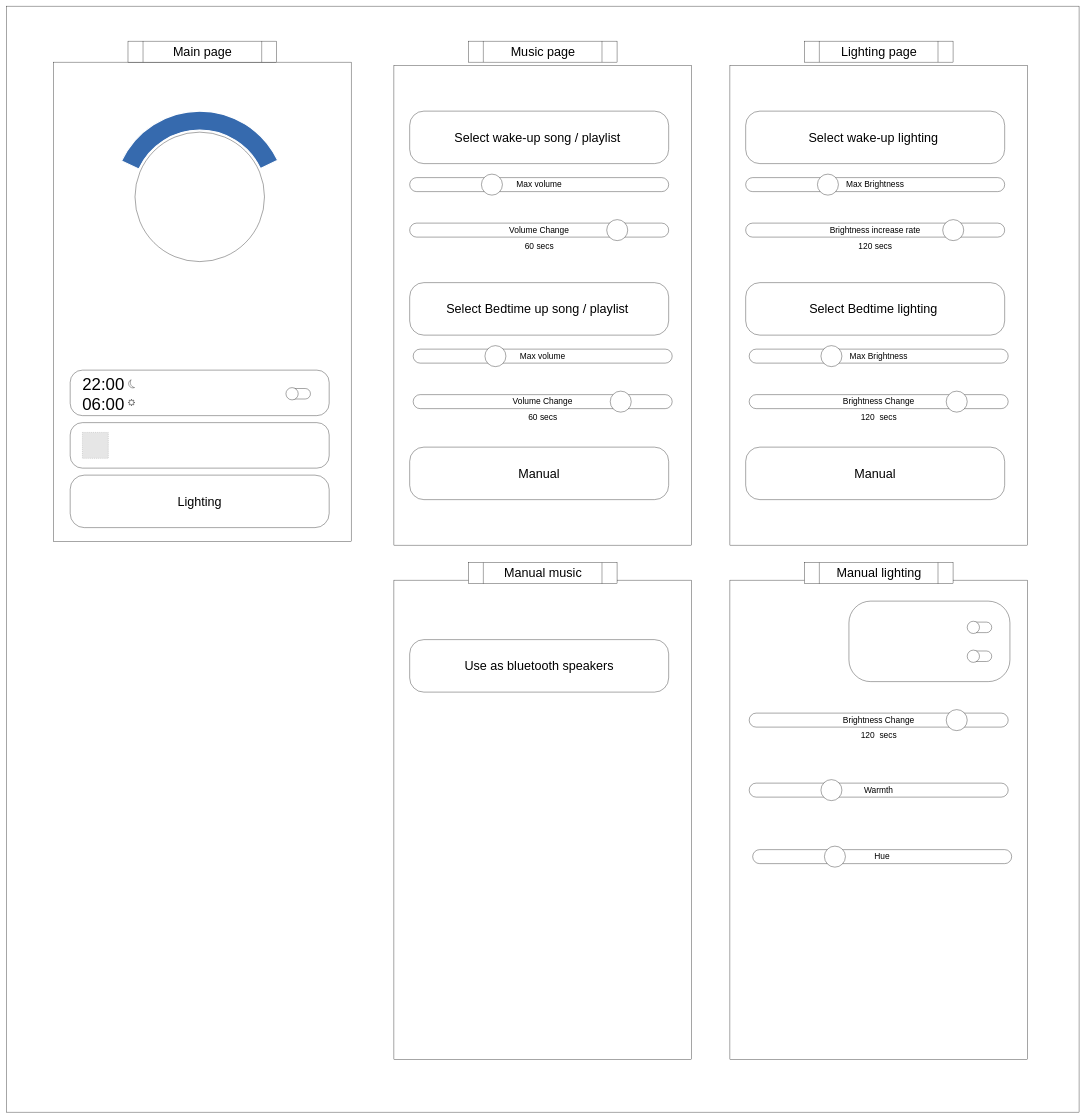
The diagram is 1085 pixels wide and 1118 high, and some of its shapes have lost their labels. Grey dashed boxes stand in for pictures. The box of each missing label's shape, as (x1, y1, x2, y2) in pixels:
8 Hours: (135, 132, 264, 262)
Music: (70, 422, 329, 468)
Sleep timer everyday: (70, 370, 329, 416)
Sync with music Colour mix: (849, 601, 1010, 682)
